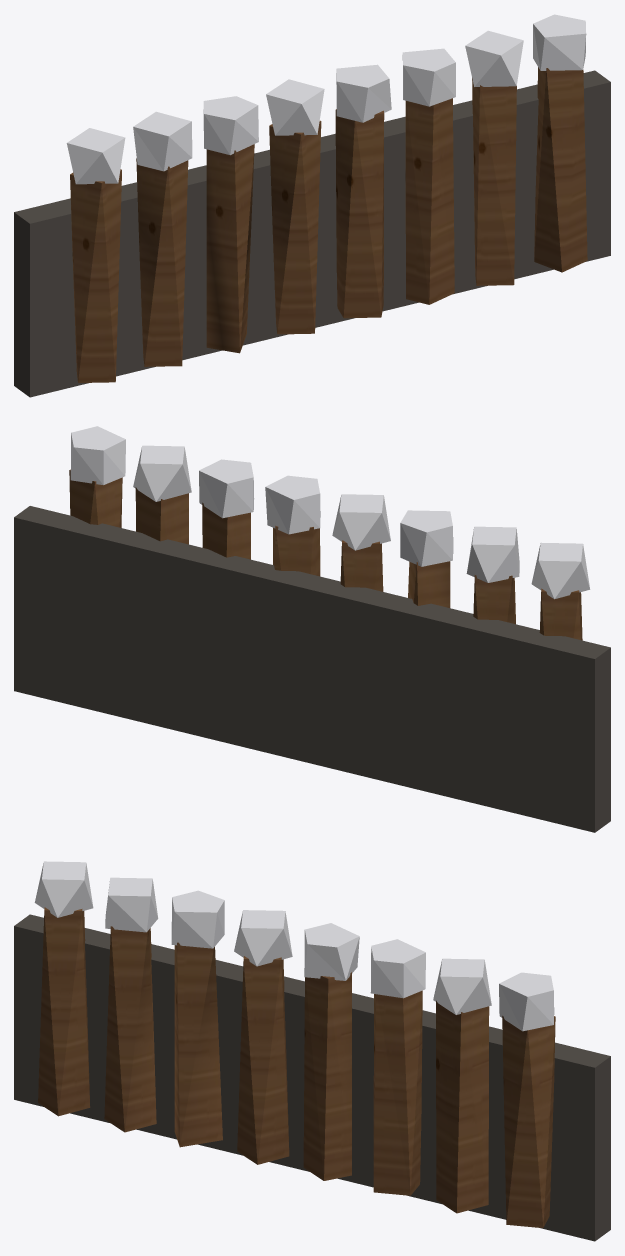
Rendered from gazyr_set_lod1.glb.
3 renders of one model, top to bottom at view 1: azimuth 30°, elevation 25°; view 2: azimuth 150°, elevation 25°; view 3: azimuth 330°, elevation 25°, orthographic.
Parts seen in each view (by area): view 1: m; view 2: m; view 3: m.
Part boxes in pixels (<box>): m: <box>14,14,610,397</box>; m: <box>14,426,610,832</box>; m: <box>14,861,610,1241</box>.
Size of the model in its own units: 0.21 by 0.086 by 0.024.
3 materials, 1 textured.
